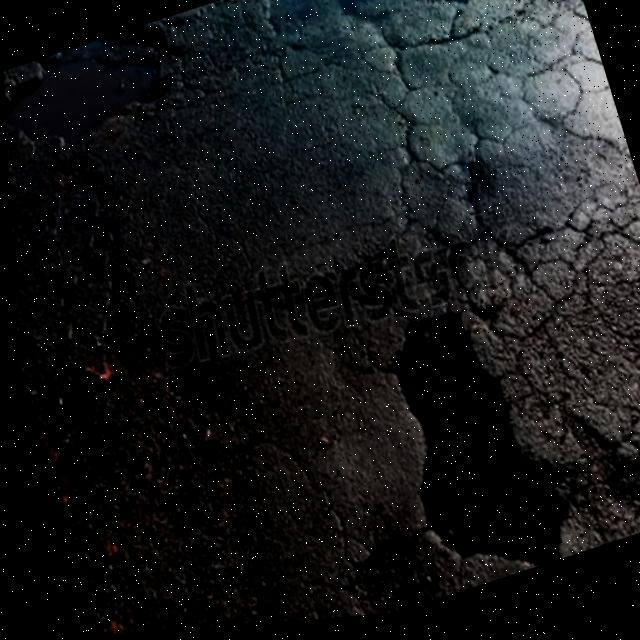Pothole: (304, 222, 640, 619), (1, 15, 250, 374), (203, 0, 473, 75)
